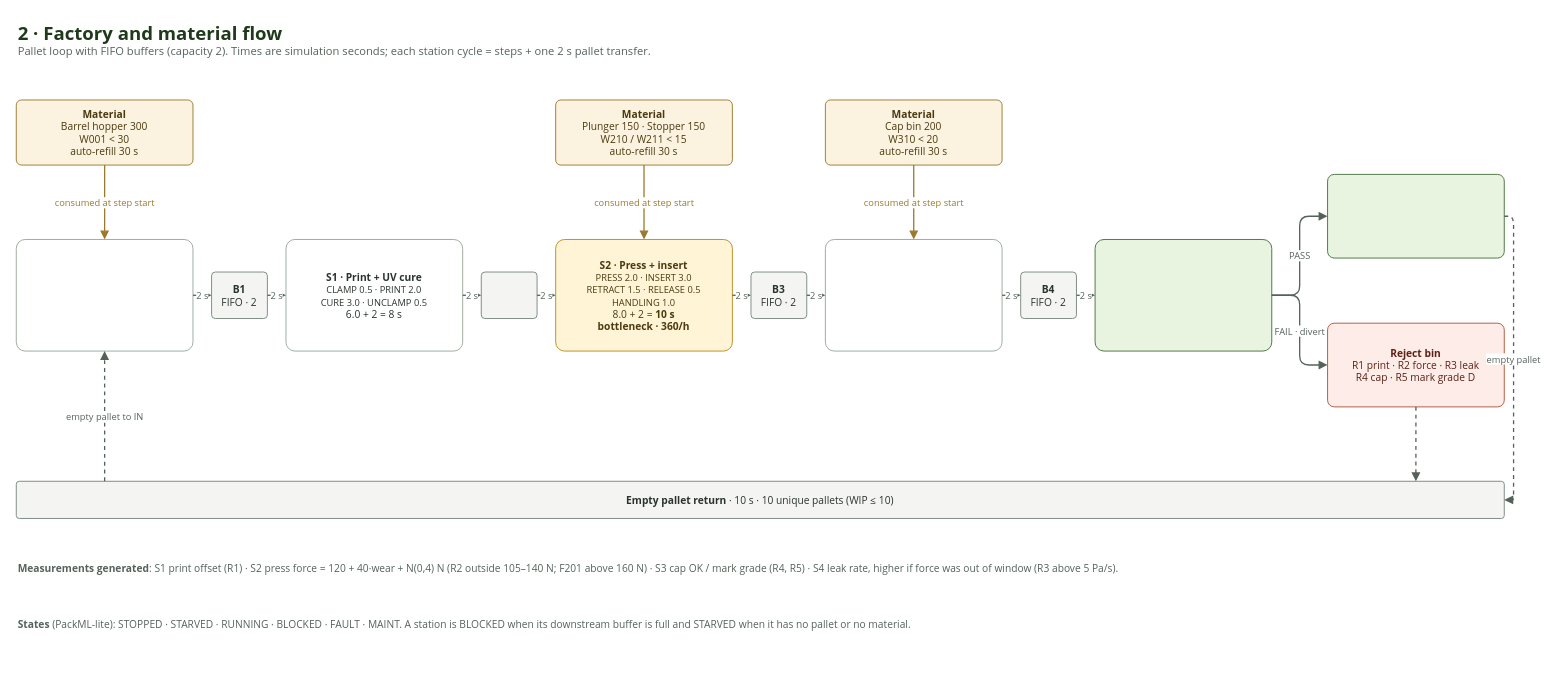
The diagram is 1557 pixels wide and 673 high, and some of its shapes have lost their labels. The centre of each missing label's shape, as x and y in pixels:
"B2 FIFO · 2" belongs at point 508,295.
"IN · Material input PICK 1.5 · PLACE 1.0 WRITE_ID 0.5 3.0 + 2 = 5 s" belongs at point 104,295.
"OUT · Packing UNLOAD 1.0 box of 10 good units" belongs at point 1415,215.
"S3 · Cap + laser mark CAP_PRESS 1.5 · LASER 2.5 VERIFY 1.0 5.0 + 2 = 7 s" belongs at point 913,295.
"S4 · Inspection VISION 1.0 · LEAK 3.0 DECIDE 0.5 · DIVERT 0.5 5.0 + 2 = 7 s" belongs at point 1183,295.
